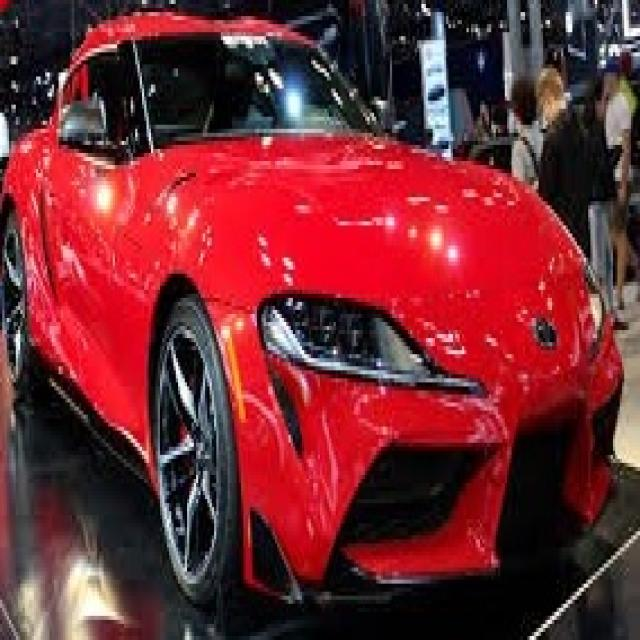red: (4, 14, 624, 583)
